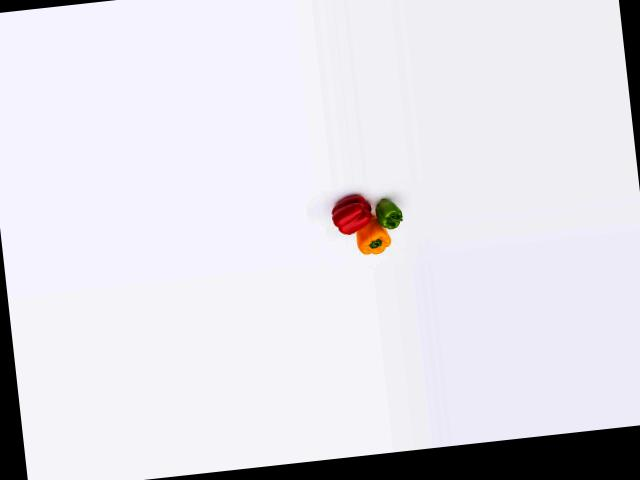bell_pepper: (373, 195, 411, 233)
